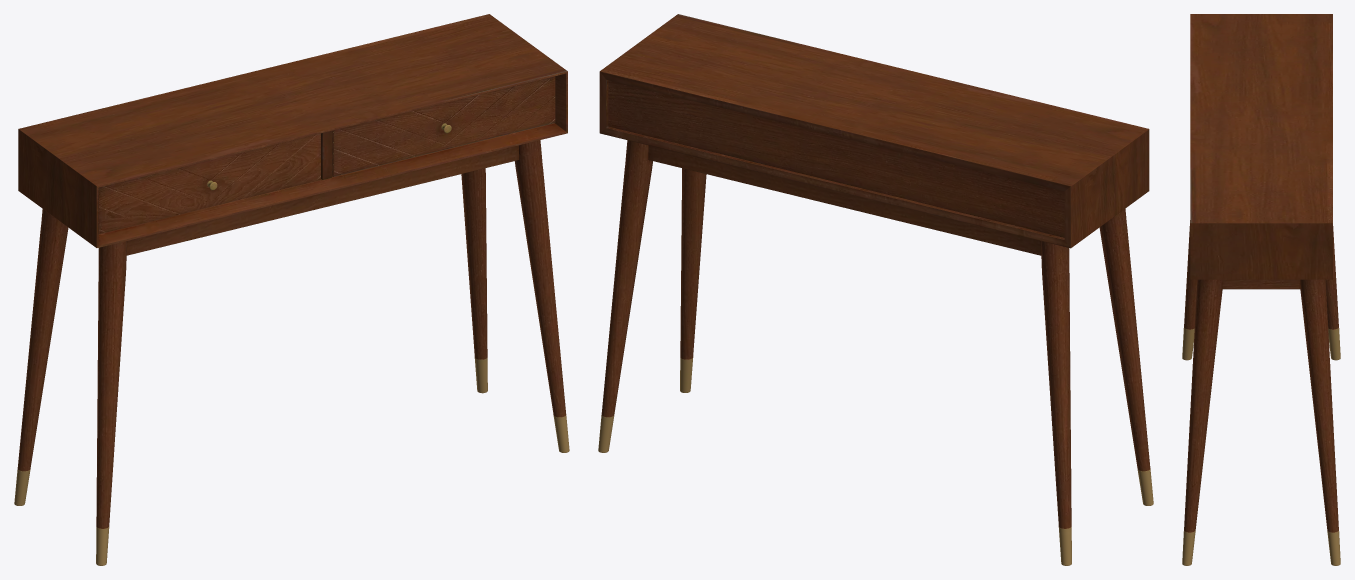
The model's file is B07HSCN9RM.glb.
3 renders of one model, left to right at view 1: azimuth 30°, elevation 25°; view 2: azimuth 150°, elevation 25°; view 3: azimuth 270°, elevation 25°, orthographic. The views are drawn at different scales.
Parts seen in each view (by area): view 1: RootNode; view 2: RootNode; view 3: RootNode.
Boxes of the visible parts, x1,y1,x2,y2 form: RootNode: [14, 14, 569, 565]; RootNode: [598, 14, 1153, 565]; RootNode: [1182, 14, 1340, 565].
Size of the model in its own units: 1.2 by 0.9166 by 0.3838.
Materials: 1 (1 with a texture image).
